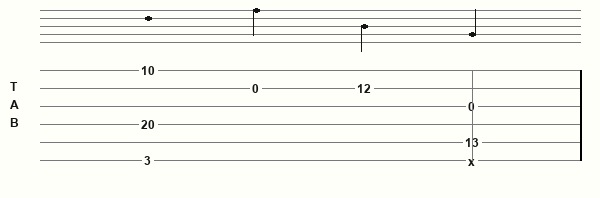0: (252, 82, 263, 95), (468, 100, 479, 113)
10: (141, 64, 159, 77)
12: (357, 82, 375, 95)
13: (465, 136, 483, 149)
20: (141, 118, 159, 131)
3: (144, 154, 155, 167)
x: (468, 155, 479, 166)
